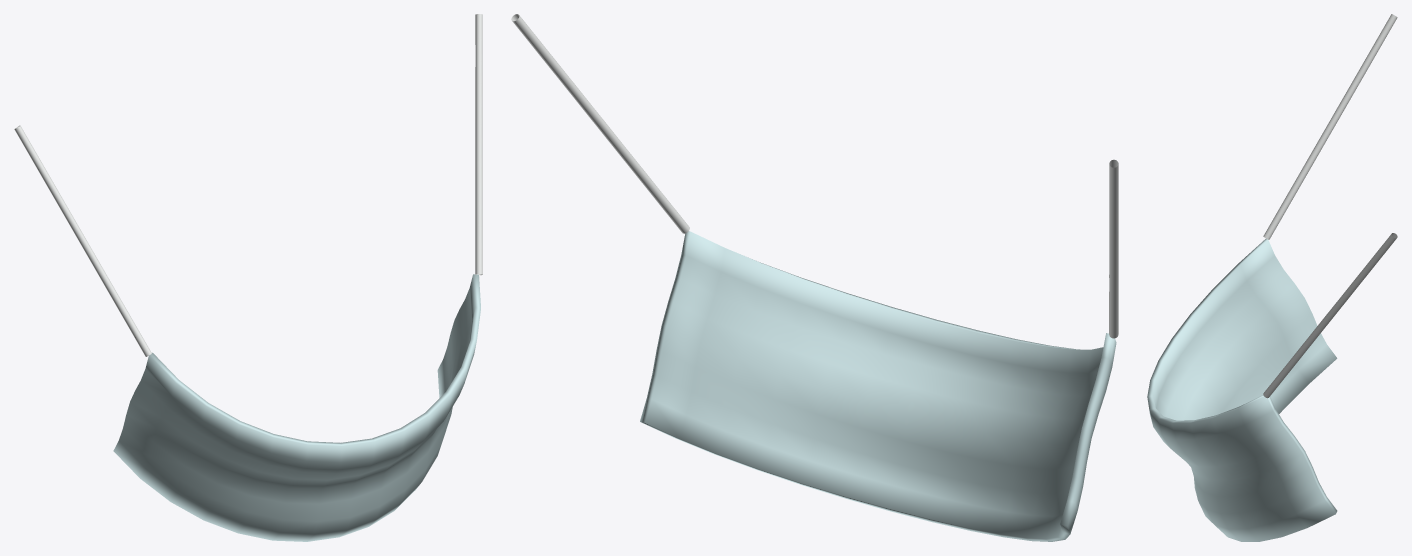
File: surgeon_cap.glb
3 renders of one model, left to right at view 1: azimuth 30°, elevation 25°; view 2: azimuth 150°, elevation 25°; view 3: azimuth 270°, elevation 25°, orthographic. The views are drawn at different scales.
Parts seen in each view (by area): view 1: surgeon_mask, ear_loop, ear_loop.001; view 2: surgeon_mask, ear_loop, ear_loop.001; view 3: surgeon_mask, ear_loop.001, ear_loop.
Part boxes in pixels (x1,y1,x2,y2): surgeon_mask: (113,274,480,541); ear_loop: (475,14,482,275); ear_loop.001: (14,125,151,356); surgeon_mask: (640,231,1116,541); ear_loop: (511,14,689,233); ear_loop.001: (1109,159,1118,338); surgeon_mask: (1147,238,1337,541); ear_loop.001: (1263,14,1397,239); ear_loop: (1263,233,1397,398).
Bounding box in the file's own units: 0.1775 × 0.1456 × 0.0843.
